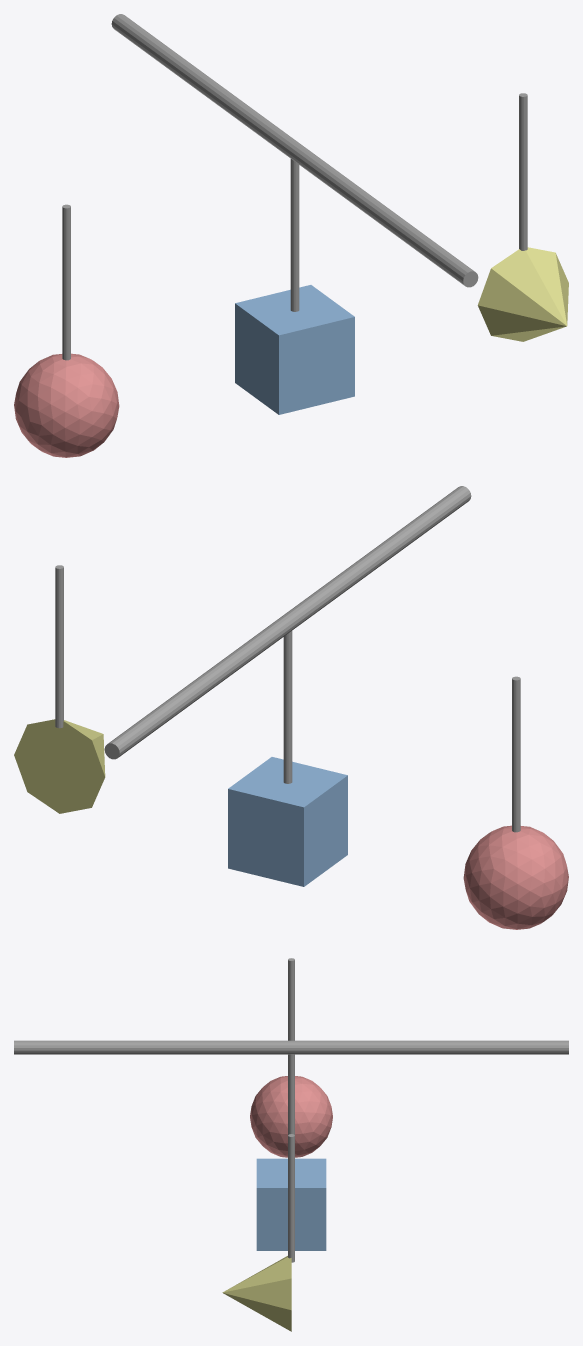
File: Mobile.glb
The picture shows the model from 3 angles, top to bottom: view 1: azimuth 30°, elevation 25°; view 2: azimuth 150°, elevation 25°; view 3: azimuth 270°, elevation 25°; orthographic projection. The views are drawn at different scales.
Visible parts, largest first — view 1: world; view 2: world; view 3: world.
Part boxes in pixels (<box>): world: <box>14,14,568,457</box>; world: <box>14,486,568,929</box>; world: <box>14,958,568,1331</box>.
Size of the model in its own units: 0.72 by 0.32 by 0.8.
